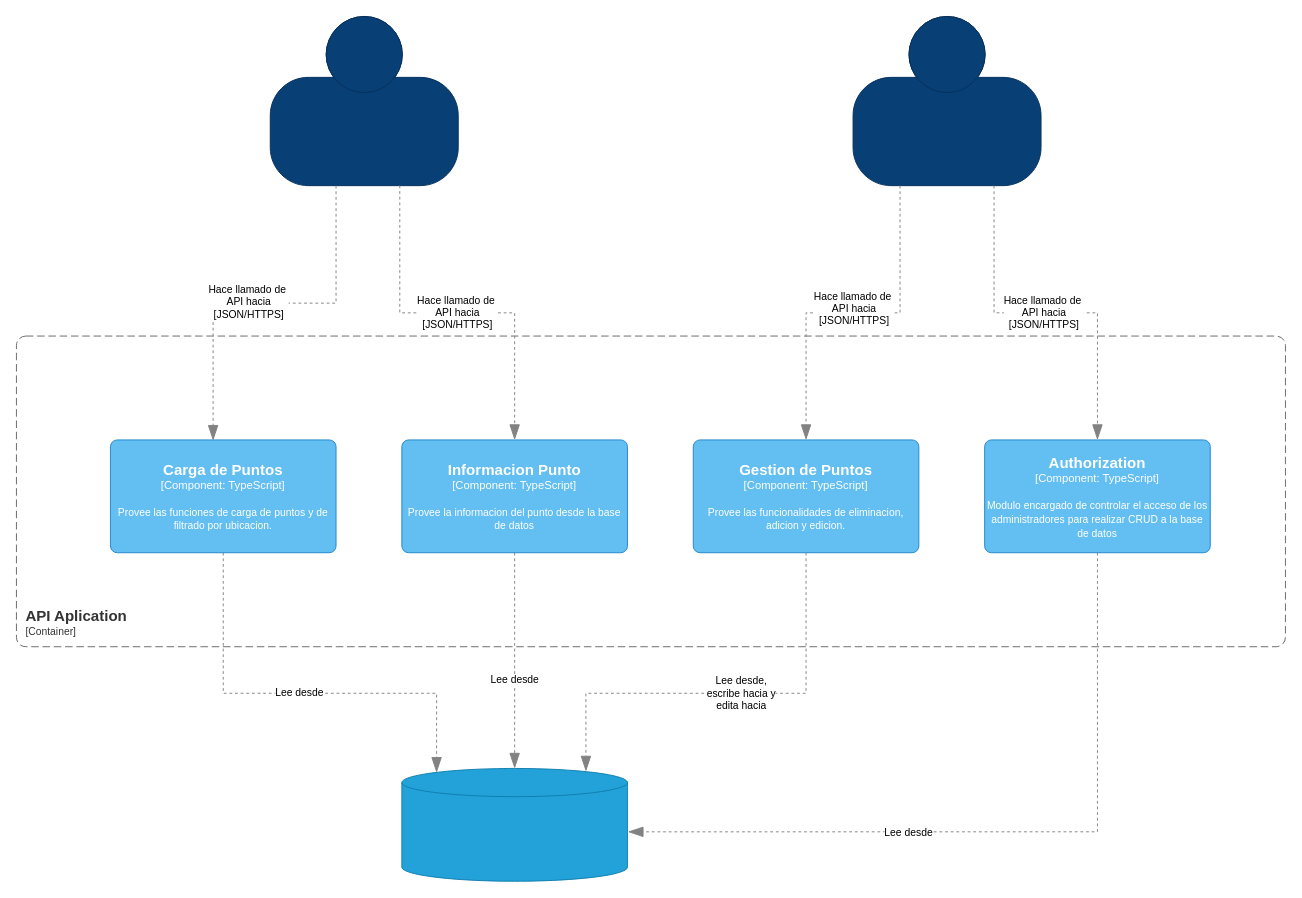
This 1302x898 diagram has some shape labels left out. The shapes that lost their labels are listed below. From the top down, each one's centre as x and y in pixels, then its label:
(363,101): Usuario [Person] Usuario de la aplicación móvil
(946,101): Administrador [Person] Administrador del sistema
(514,824): Database [Container: PostgreSQL] Base de datos del sistema
